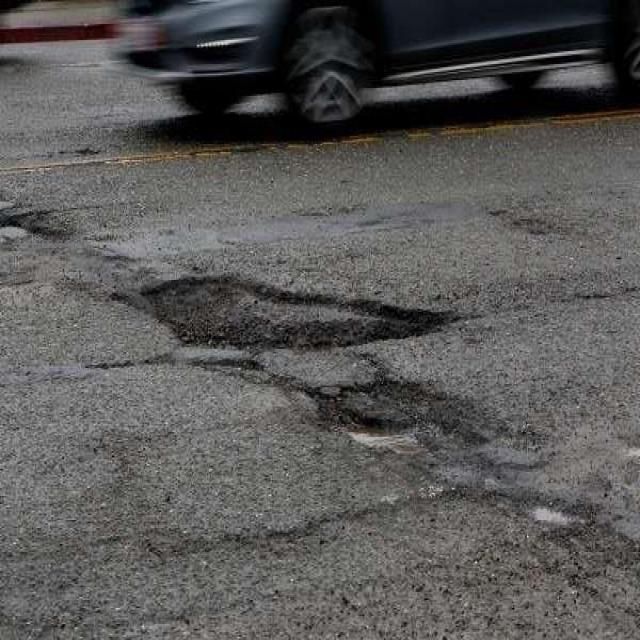jalan retak: (137, 496, 398, 580), (58, 227, 151, 314)
lubang: (116, 252, 465, 378), (296, 366, 516, 458), (521, 476, 636, 588), (0, 173, 88, 270)
